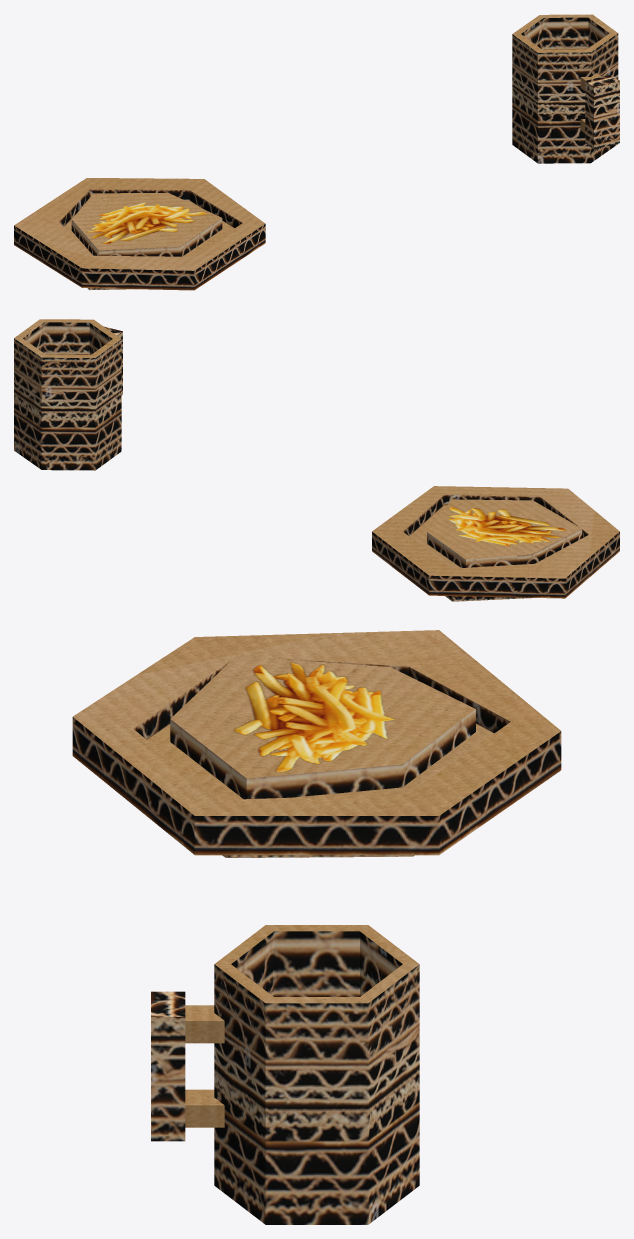
Rendered from cup and plate.fbx.
The picture shows the model from 3 angles, top to bottom: view 1: azimuth 30°, elevation 25°; view 2: azimuth 150°, elevation 25°; view 3: azimuth 270°, elevation 25°; orthographic projection. The views are drawn at different scales.
Parts seen in each view (by area): view 1: Cylinder.001, Cylinder, Cylinder.002, Plane; view 2: Cylinder, Cylinder.001, Cylinder.002; view 3: Cylinder, Cylinder.001, Cylinder.002, Plane.
Boxes of the visible parts, x1,y1,x2,y2 form: Cylinder.001: (14, 178, 265, 290); Cylinder: (512, 14, 618, 163); Cylinder.002: (71, 193, 222, 256); Plane: (580, 73, 619, 149); Cylinder: (14, 319, 121, 470); Cylinder.001: (372, 486, 619, 601); Cylinder.002: (427, 499, 581, 567); Cylinder: (214, 925, 419, 1224); Cylinder.001: (72, 630, 561, 857); Cylinder.002: (170, 656, 475, 799); Plane: (151, 991, 224, 1141).
Bounding box in the file's own units: 265 × 52.81 × 100.
